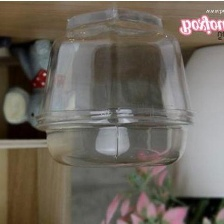glass: (31, 0, 196, 172)
